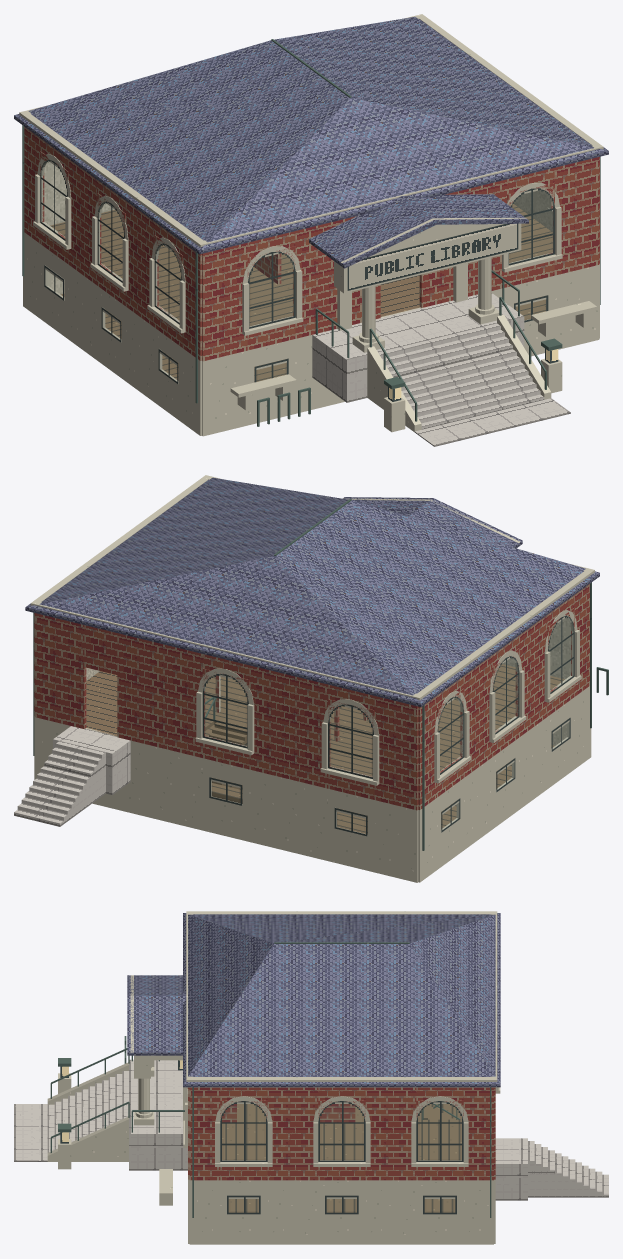
The model's file is public-library-1912.glb.
3 renders of one model, top to bottom at view 1: azimuth 30°, elevation 25°; view 2: azimuth 150°, elevation 25°; view 3: azimuth 270°, elevation 25°, orthographic. The views are drawn at different scales.
Parts seen in each view (by area): view 1: structure__roof_slate, structure__detail_stone, structure__wall_brick, structure__ground_paving, structure__detail_wood, sign_name, structure__glass_reading, lot__ground_paving, structure__detail_steel, stone_bench.001__detail_stone, stone_bench__detail_stone, stair_lamp__detail_stone (+1 smaller); view 2: structure__roof_slate, structure__detail_stone, structure__wall_brick, structure__detail_wood, structure__ground_paving, structure__glass_reading, structure__detail_steel, basement_stairs__detail_wood; view 3: structure__roof_slate, structure__detail_stone, structure__wall_brick, structure__ground_paving, structure__detail_wood, structure__glass_reading, lot__ground_paving, structure__detail_steel, stone_bench.001__detail_stone.
Boxes of the visible parts, x1,y1,x2,y2 form: structure__roof_slate: (14, 16, 608, 268); structure__detail_stone: (19, 14, 603, 436); structure__wall_brick: (24, 126, 599, 361); structure__ground_paving: (312, 293, 544, 429); structure__detail_wood: (50, 204, 552, 382); sign_name: (347, 223, 518, 290); structure__glass_reading: (40, 159, 554, 383); lot__ground_paving: (414, 398, 570, 446); structure__detail_steel: (22, 39, 600, 421); stone_bench.001__detail_stone: (531, 301, 597, 336); stone_bench__detail_stone: (230, 374, 296, 410); stair_lamp__detail_stone: (384, 397, 405, 432); structure__roof_slate: (25, 477, 599, 706); structure__detail_stone: (30, 475, 594, 882); structure__wall_brick: (34, 584, 589, 810); structure__detail_wood: (86, 664, 564, 834); structure__ground_paving: (14, 726, 130, 826); structure__glass_reading: (202, 615, 574, 836); structure__detail_steel: (33, 499, 591, 850); basement_stairs__detail_wood: (209, 722, 247, 803); structure__roof_slate: (127, 913, 500, 1087); structure__detail_stone: (47, 911, 500, 1244); structure__wall_brick: (187, 1087, 495, 1180); structure__ground_paving: (47, 1059, 608, 1200); structure__detail_wood: (222, 1104, 461, 1212); structure__glass_reading: (220, 1101, 463, 1214); lot__ground_paving: (14, 1104, 47, 1161); structure__detail_steel: (50, 942, 491, 1217); stone_bench.001__detail_stone: (159, 1169, 172, 1205).
Size of what is drawn, in the model's own units: 18.62 by 11.06 by 27.32.
10 materials, 10 textured.
